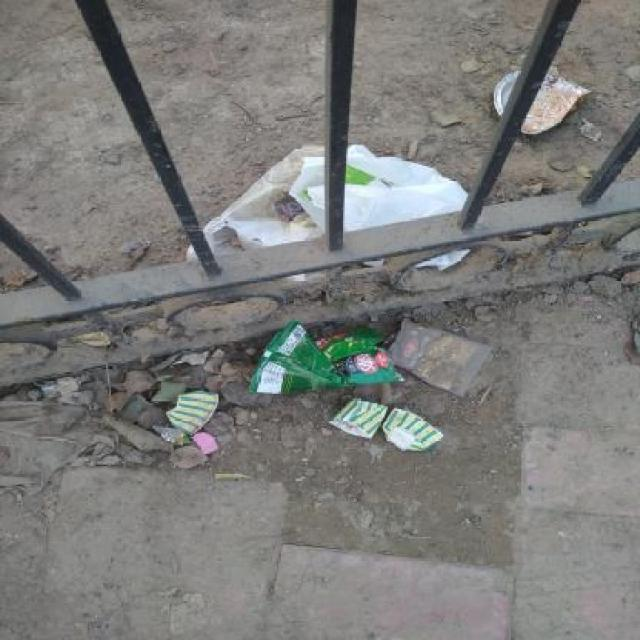garbage: (226, 300, 494, 472), (212, 129, 463, 292), (474, 59, 598, 173), (106, 390, 263, 449)
